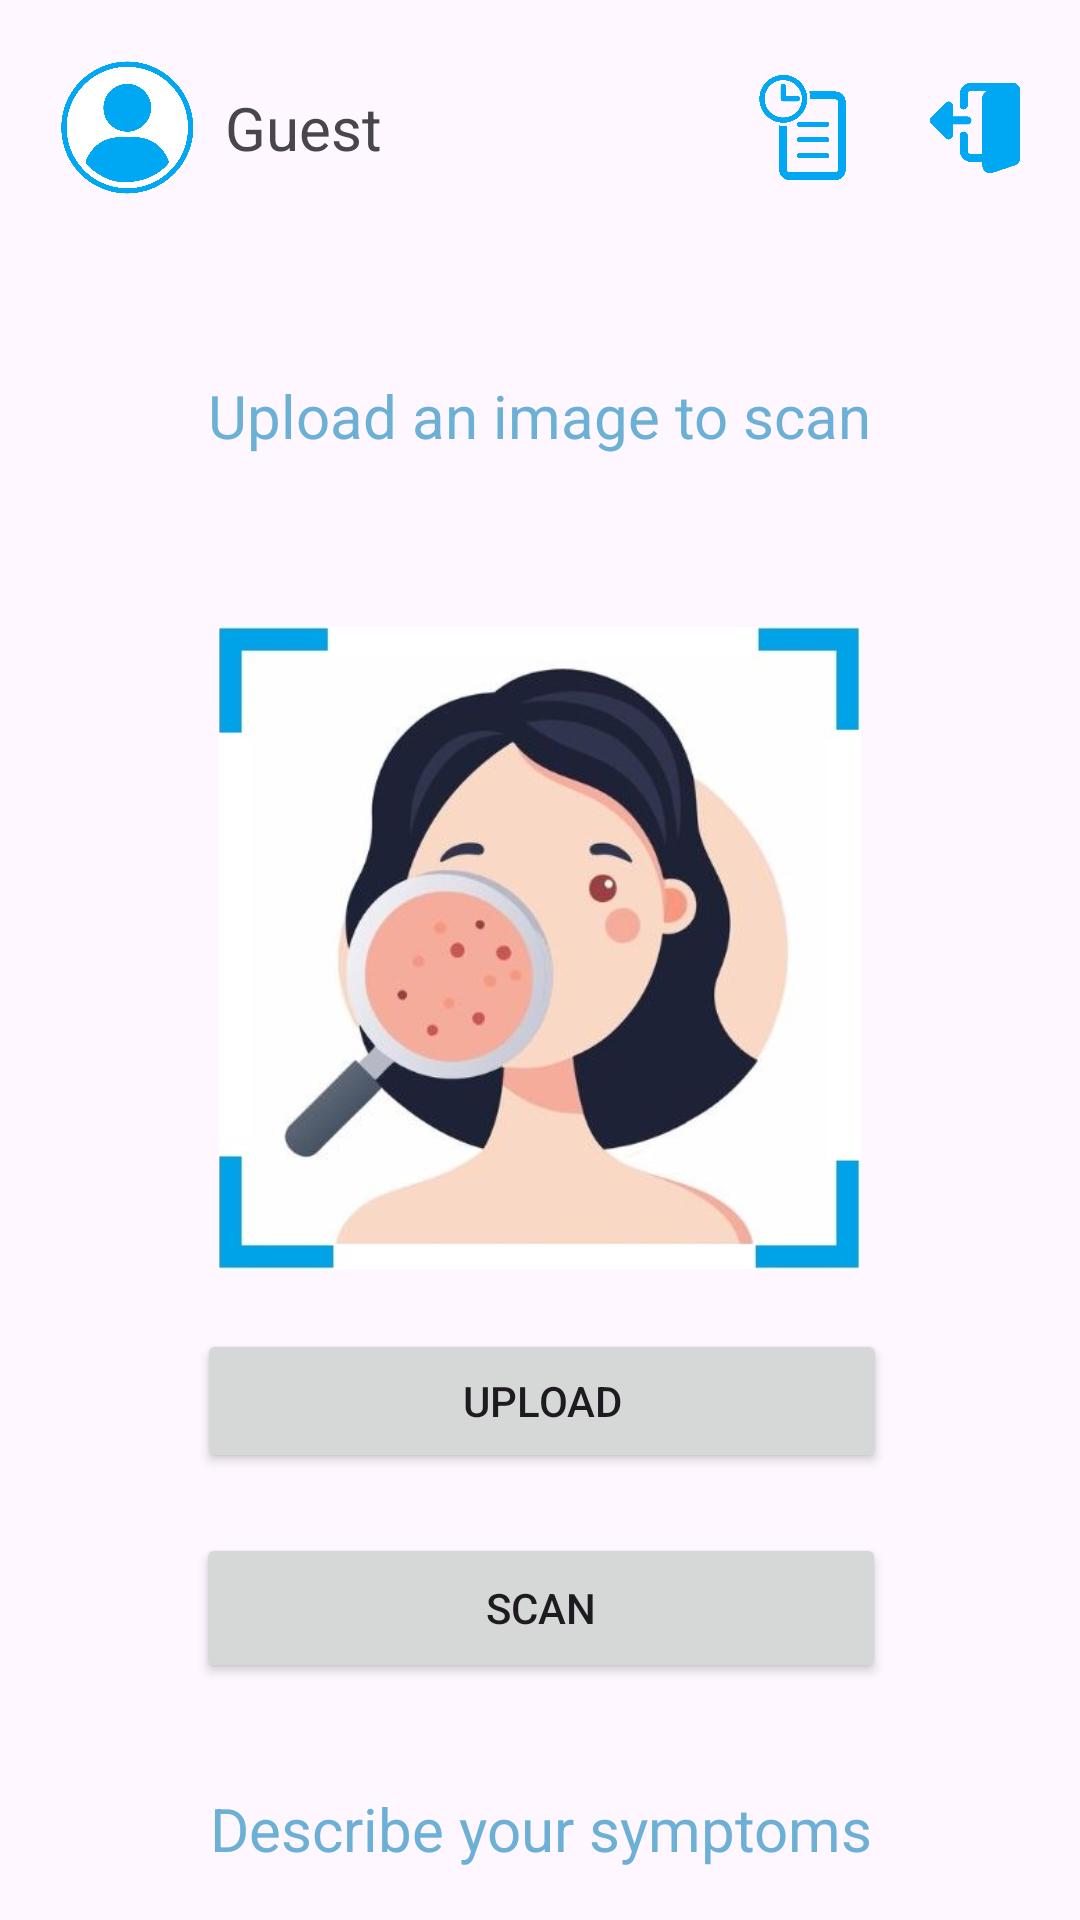

Locate icon controls on the screen. Image size 1080*1920, boxes as BBox(x1, y1, x2, y2).
history: BBox(759, 75, 846, 180)
sign out: BBox(930, 83, 1020, 173)
user: BBox(61, 61, 193, 194)
